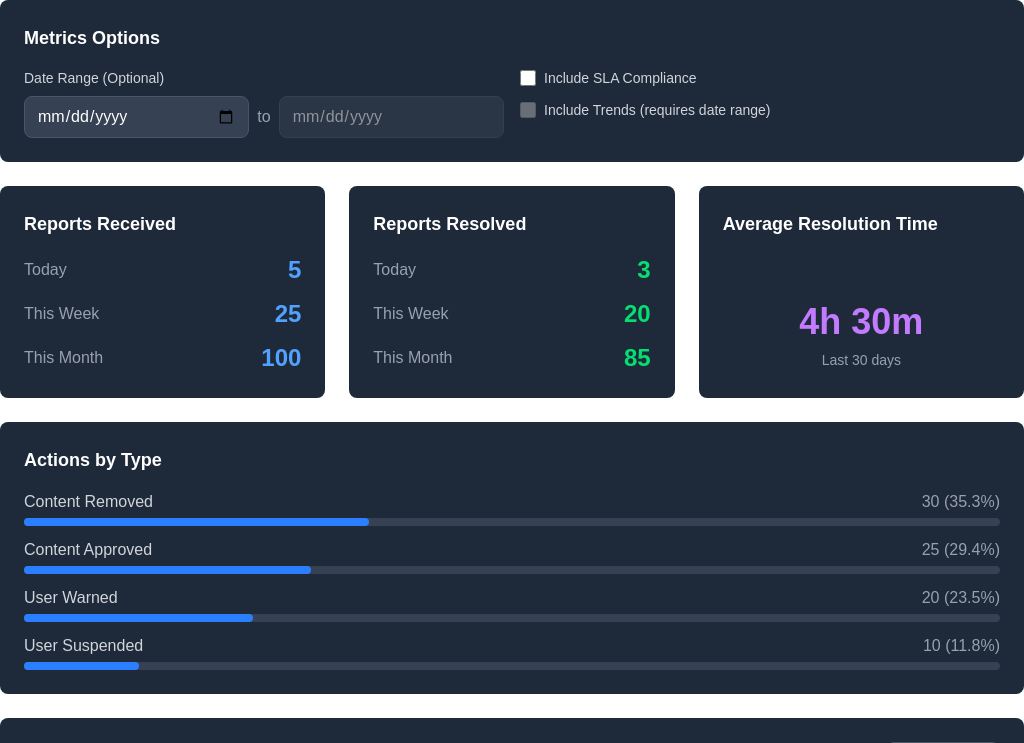
Test: ModerationMetrics › SLA Compliance › should display correct SLA targets for each priority
The width and height of the screenshot is (1024, 743).
Check: the heading "Reports Received" is shown, box [24, 214, 176, 234]
Click the checkbox labelled "Include SLA Compliance". click: click(528, 78)
box: [520, 70, 536, 86]
(page scrolled)
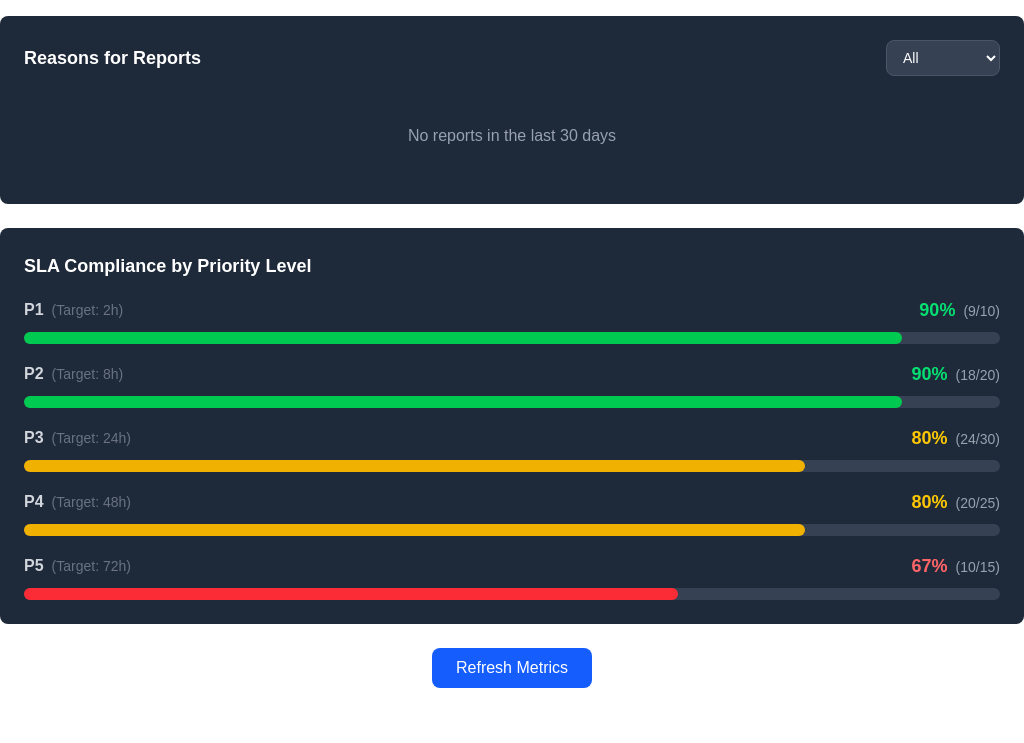
Check: the text "(Target: 2h)" is shown, box [52, 300, 123, 320]
Check: the text "(Target: 8h)" is shown, box [52, 364, 123, 384]
Check: the text "(Target: 24h)" is shown, box [52, 428, 131, 448]
